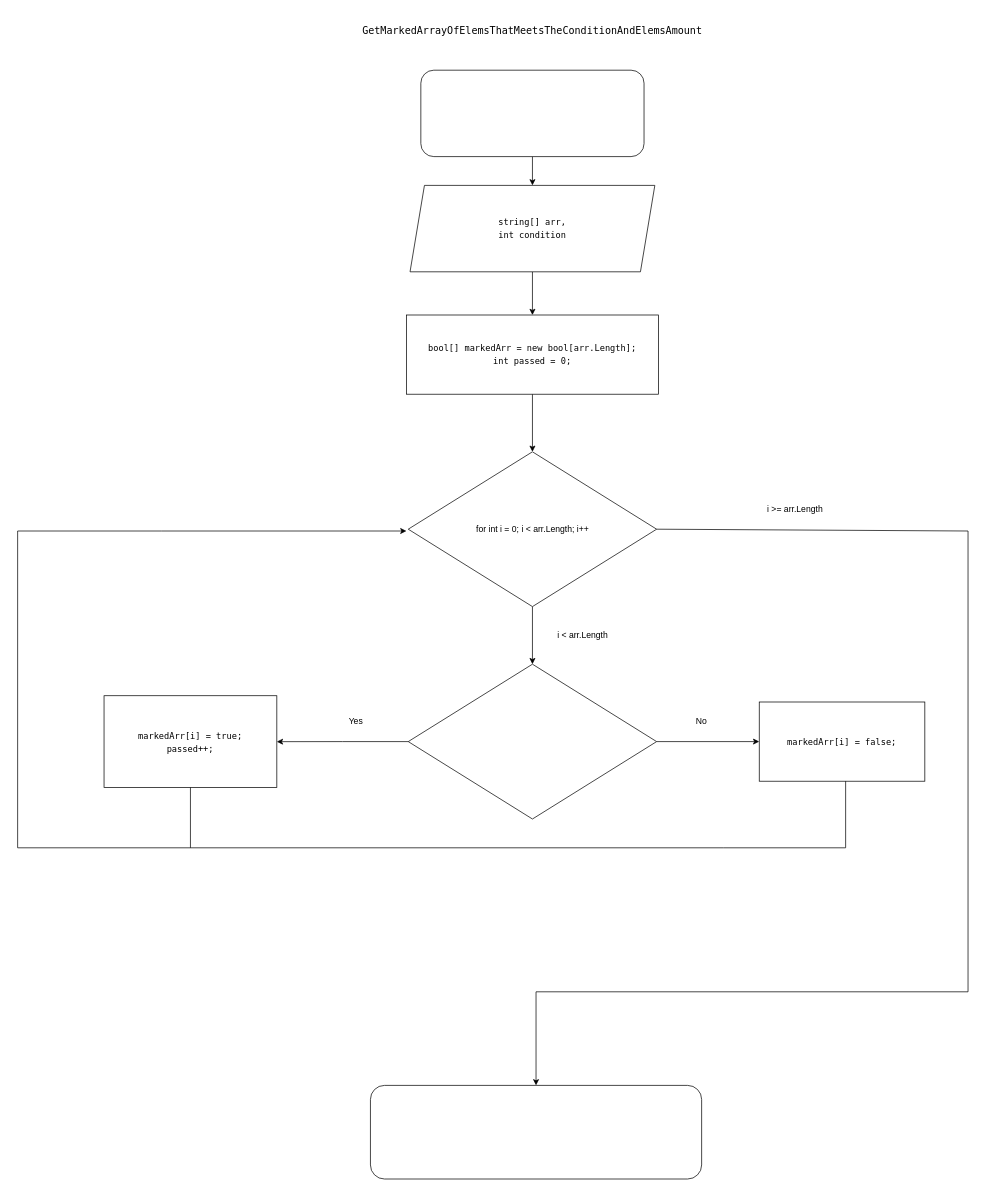
The diagram is 981 pixels wide and 1192 high, and some of its shapes have lost their labels. Here are the shapes that lost their labels. From the top down, the centre of each, then its label:
At (x=532, y=113): "Start".
At (x=532, y=741): "if (arr[i].Length <= condition)".
At (x=536, y=1132): "return (markedArr, passed). FINISH.".
